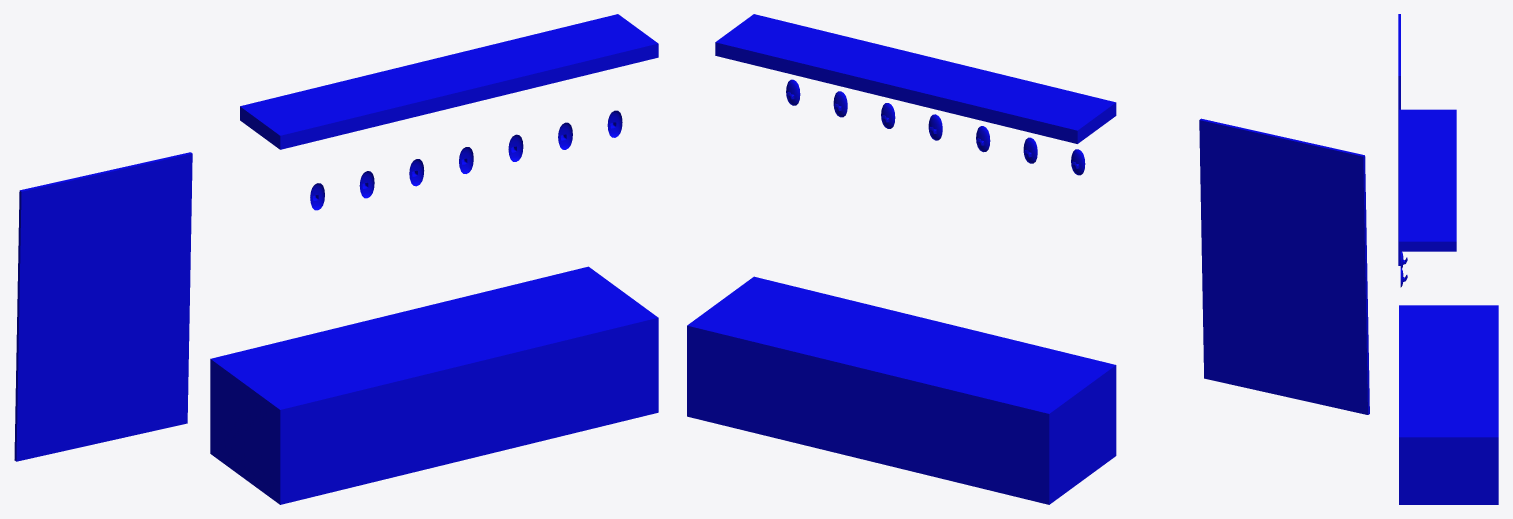
The picture shows the model from 3 angles, left to right: view 1: azimuth 30°, elevation 25°; view 2: azimuth 150°, elevation 25°; view 3: azimuth 270°, elevation 25°; orthographic projection. The views are drawn at different scales.
Visible parts, largest first — view 1: Uv_02; view 2: Uv_02; view 3: Uv_02.
Boxes of the visible parts, <box> form: Uv_02: <box>14,14,658,504</box>; Uv_02: <box>687,14,1369,504</box>; Uv_02: <box>1398,14,1498,504</box>.
Size of the model in its own units: 425 by 238 by 80.62.
